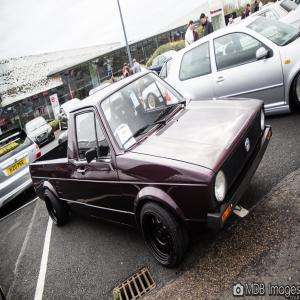Vehicle-registration-plate: (8, 157, 28, 175)
